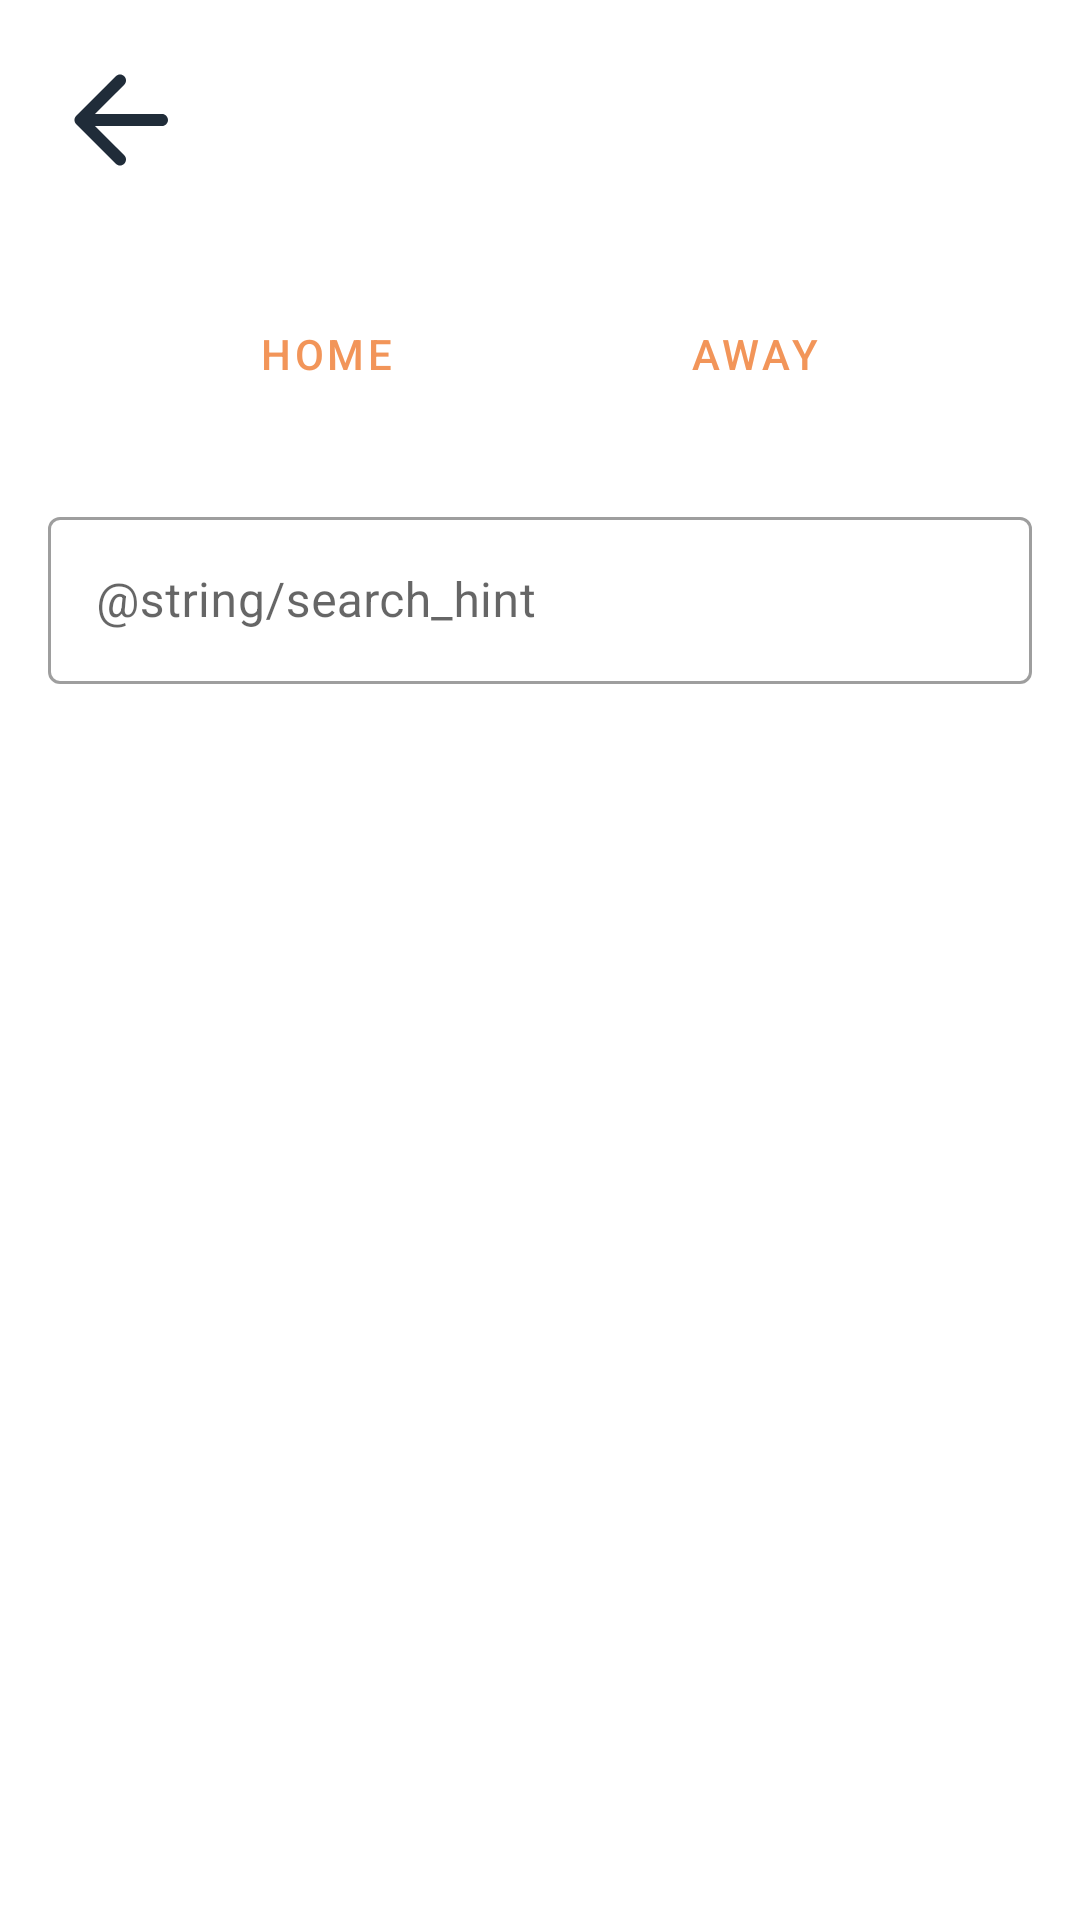

Where icons sit on this 1080w x 1920h app screen, as (x1, y1, x2, y2):
back: (74, 74, 168, 166)
